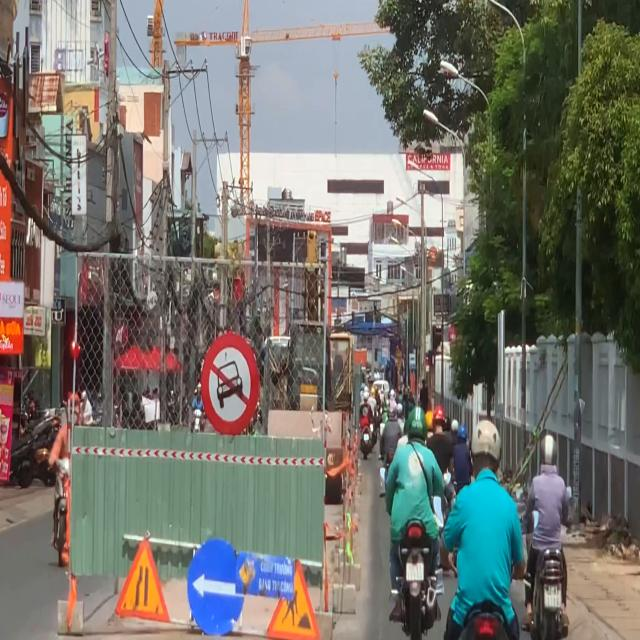Cam con lai: (200, 333, 262, 434)
Nguy hiem: (114, 533, 174, 625)
Re trai: (188, 536, 244, 632)
